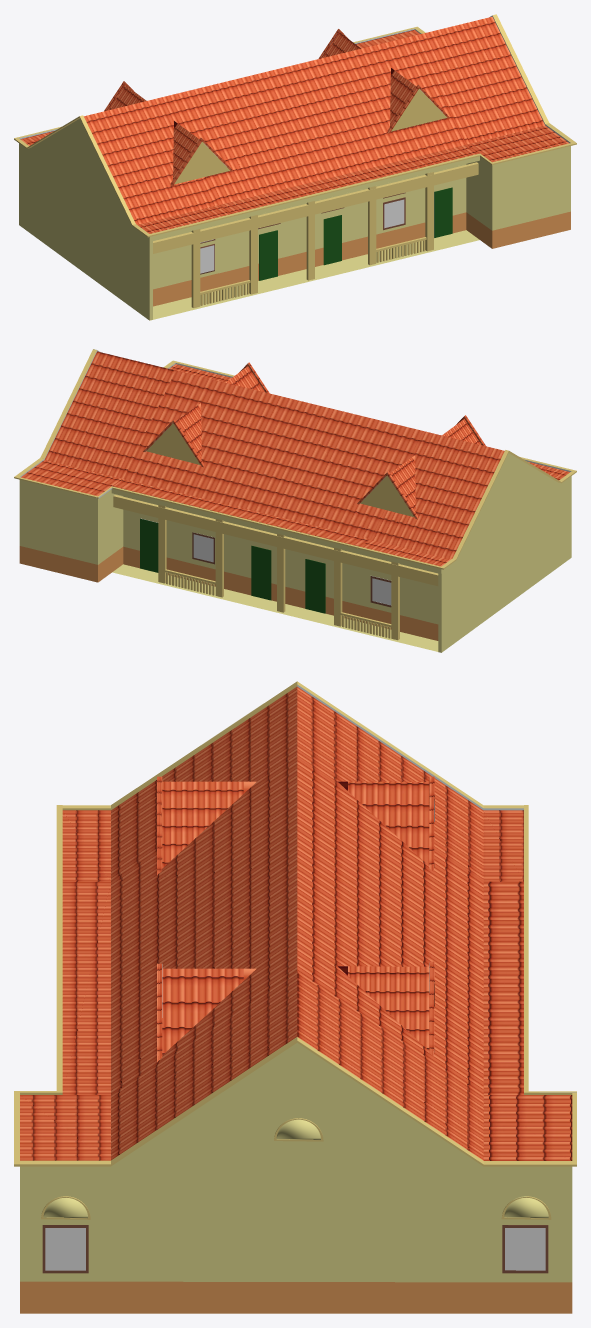
The model's file is hoitruonga1.fbx.
3 views of the same model, one above another, from view 1: azimuth 30°, elevation 25°; view 2: azimuth 150°, elevation 25°; view 3: azimuth 270°, elevation 25° (orthographic). The views are drawn at different scales.
Parts seen in each view (by area): view 1: HoitruongB1, Cube.005, Cube.002, Cube, Cube.003, Cube.001; view 2: HoitruongB1, Cube.010, Cube.001, Cube.003, Cube, Cube.002; view 3: HoitruongB1, Cube.002, Cube, Cube.001, Cube.003.
Boxes of the visible parts, bbox=[...] form: HoitruongB1: bbox=[14, 14, 576, 320]; Cube.005: bbox=[153, 162, 478, 308]; Cube.002: bbox=[170, 121, 233, 186]; Cube: bbox=[387, 68, 450, 133]; Cube.003: bbox=[318, 29, 360, 58]; Cube.001: bbox=[104, 81, 146, 111]; HoitruongB1: bbox=[14, 349, 576, 652]; Cube.010: bbox=[113, 495, 438, 640]; Cube.001: bbox=[357, 455, 417, 519]; Cube.003: bbox=[143, 403, 203, 467]; Cube: bbox=[226, 362, 269, 393]; Cube.002: bbox=[442, 415, 485, 445]; HoitruongB1: bbox=[14, 681, 576, 1313]; Cube.002: bbox=[157, 776, 256, 874]; Cube: bbox=[157, 963, 256, 1061]; Cube.001: bbox=[338, 776, 434, 871]; Cube.003: bbox=[338, 961, 434, 1056].
Size of the model in its own units: 2333 by 839 by 1545.
